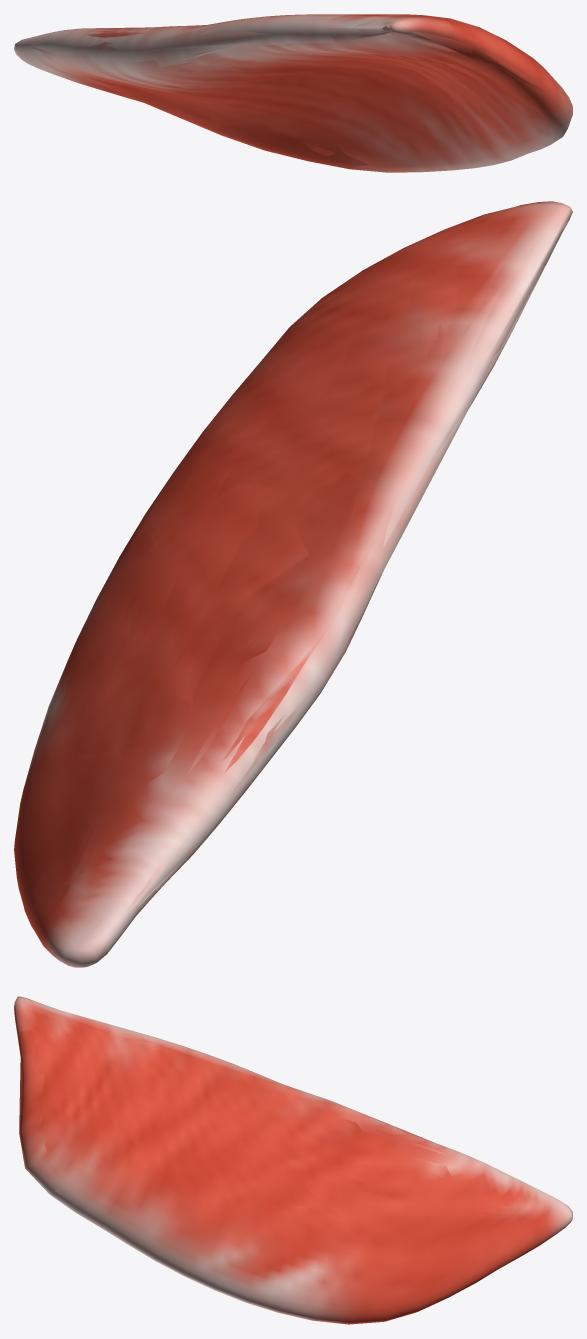
The model's file is L Rhomboideus Thoracis.fbx.
3 renders of one model, top to bottom at view 1: azimuth 30°, elevation 25°; view 2: azimuth 150°, elevation 25°; view 3: azimuth 270°, elevation 25°, orthographic. The views are drawn at different scales.
Visible parts, largest first — view 1: L Rhomboideus Thoracis, L Rhomboideus Thoracis low; view 2: L Rhomboideus Thoracis, L Rhomboideus Thoracis low; view 3: L Rhomboideus Thoracis, L Rhomboideus Thoracis low.
Part boxes in pixels (x1,y1,x2,y2): L Rhomboideus Thoracis: [14, 14, 572, 172]; L Rhomboideus Thoracis low: [14, 14, 568, 172]; L Rhomboideus Thoracis: [14, 201, 572, 967]; L Rhomboideus Thoracis low: [56, 201, 570, 956]; L Rhomboideus Thoracis: [14, 996, 572, 1324]; L Rhomboideus Thoracis low: [16, 1002, 571, 1324].
Size of the model in its own units: 10.4 by 13.72 by 26.1.
